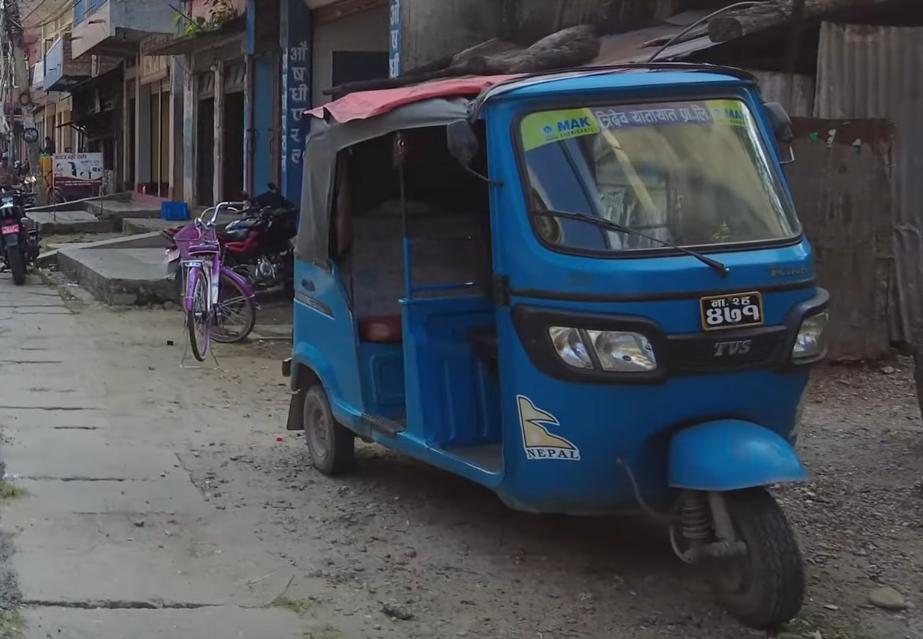auto_rickshaw: (282, 55, 822, 633)
bike: (0, 178, 34, 289)
